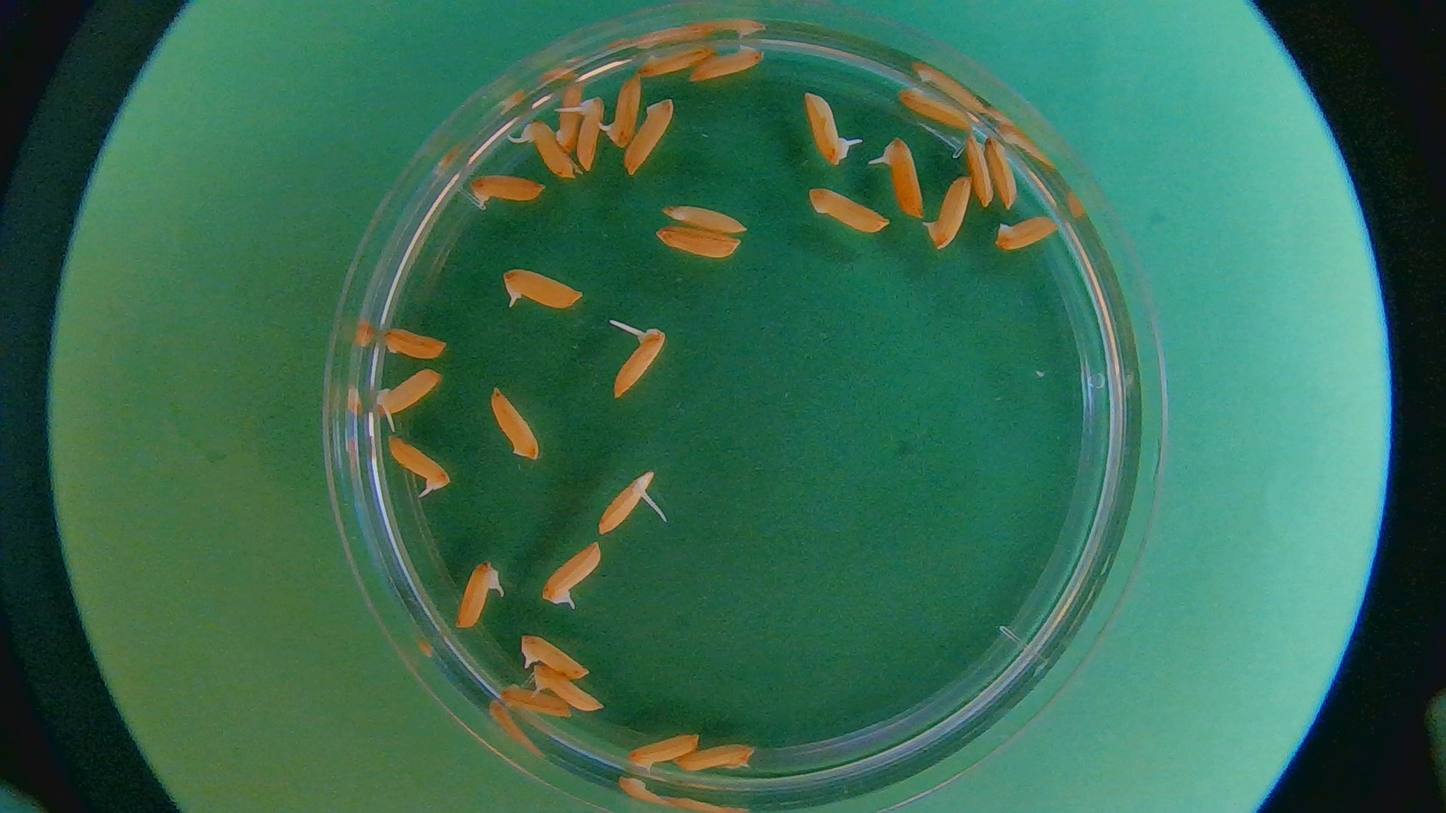no: (923, 166, 972, 252), (898, 81, 976, 134), (807, 188, 892, 235), (489, 385, 540, 462), (518, 627, 592, 680), (624, 96, 673, 174), (691, 36, 765, 87), (654, 221, 744, 262), (659, 197, 750, 237), (626, 732, 701, 777), (499, 679, 575, 723), (981, 131, 1021, 214), (993, 214, 1065, 254), (964, 133, 999, 212), (674, 741, 755, 775), (639, 47, 718, 81), (382, 321, 447, 361), (468, 174, 545, 207), (554, 80, 584, 156)
yes: (383, 431, 450, 498), (498, 263, 587, 311), (598, 467, 655, 537), (878, 136, 926, 218), (371, 367, 442, 422), (614, 325, 666, 399), (531, 665, 606, 714), (546, 543, 602, 602), (523, 120, 580, 176), (456, 565, 502, 628), (806, 96, 846, 165), (603, 75, 639, 149), (575, 99, 605, 175)
